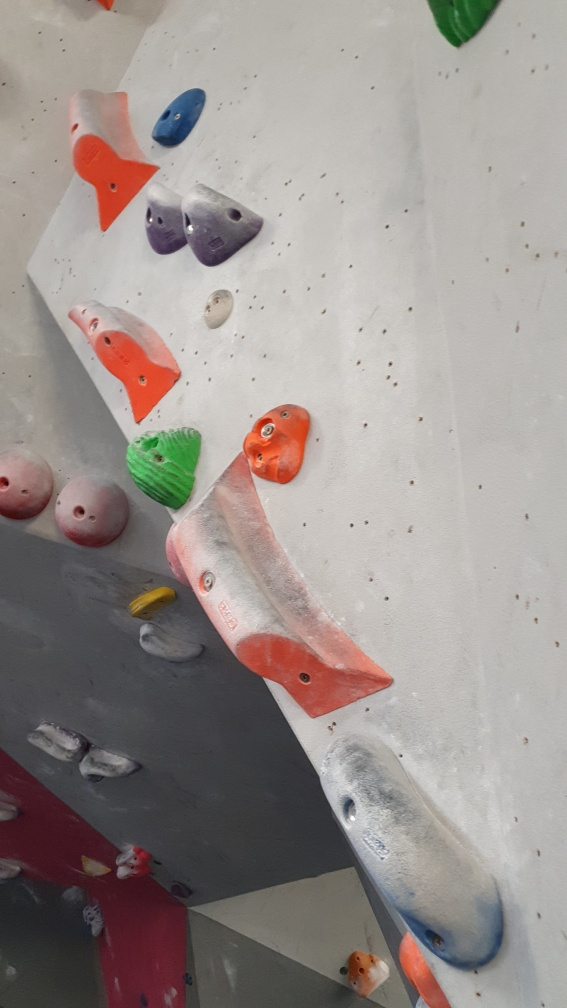Crimp: (149, 90, 209, 150)
Jug: (183, 181, 270, 267), (125, 426, 213, 507), (144, 177, 193, 259)
Pinch: (173, 447, 397, 718), (64, 298, 186, 423), (66, 86, 161, 235)
Sloper: (313, 726, 509, 962), (56, 470, 133, 547), (1, 446, 56, 523)
